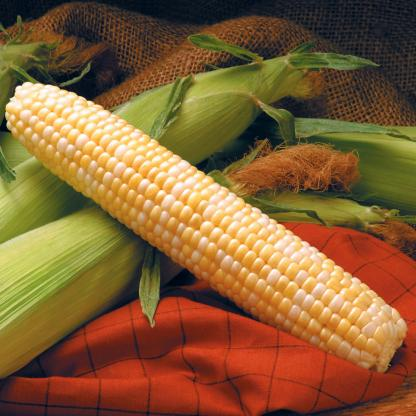---: (2, 75, 411, 370)
